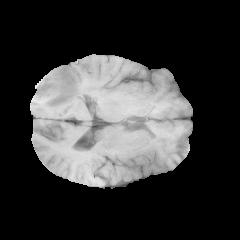glioma: (33, 54, 112, 107)
